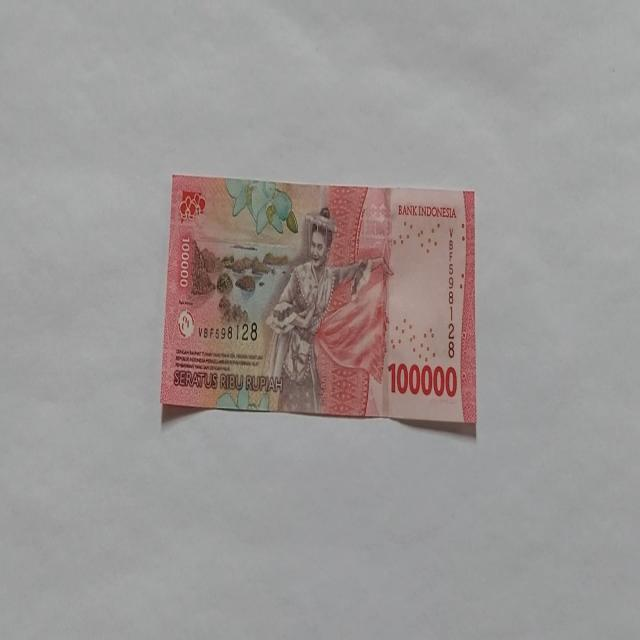seratus ribu rupiah: (160, 174, 476, 434), (260, 204, 390, 416)
